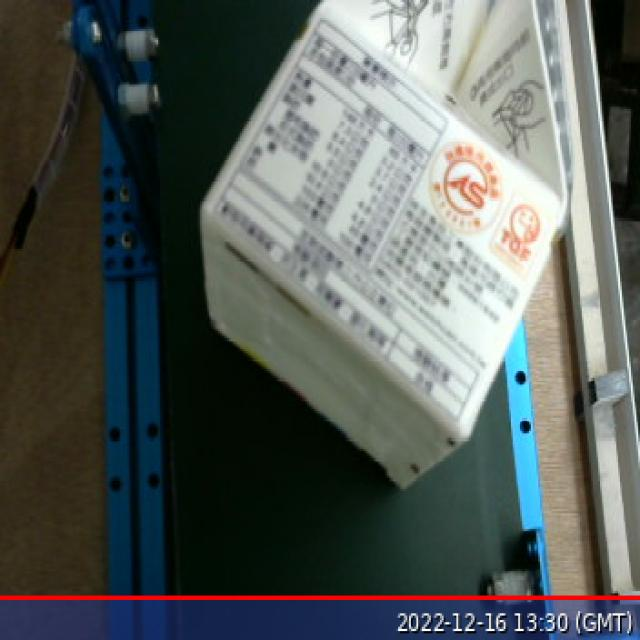non_white_jug: (187, 0, 581, 510)
